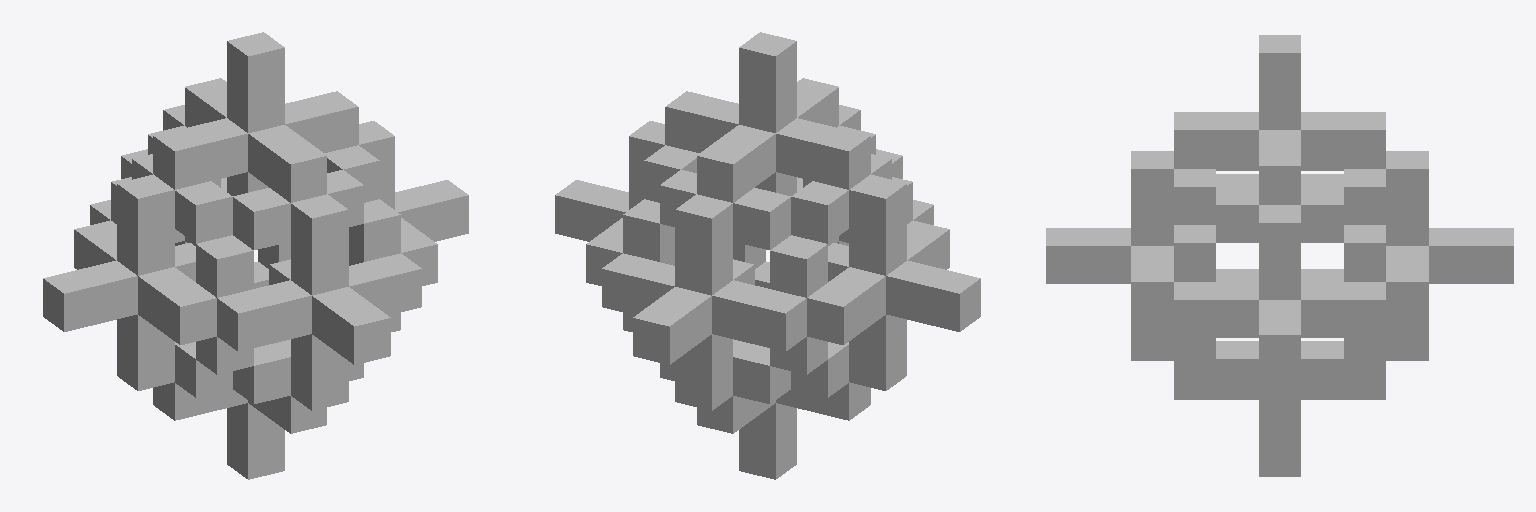
The model's file is ProjectileDeath2.obj.
3 renders of one model, left to right at view 1: azimuth 30°, elevation 25°; view 2: azimuth 150°, elevation 25°; view 3: azimuth 270°, elevation 25°, orthographic.
Size of the model in its own units: 11 by 11 by 11.